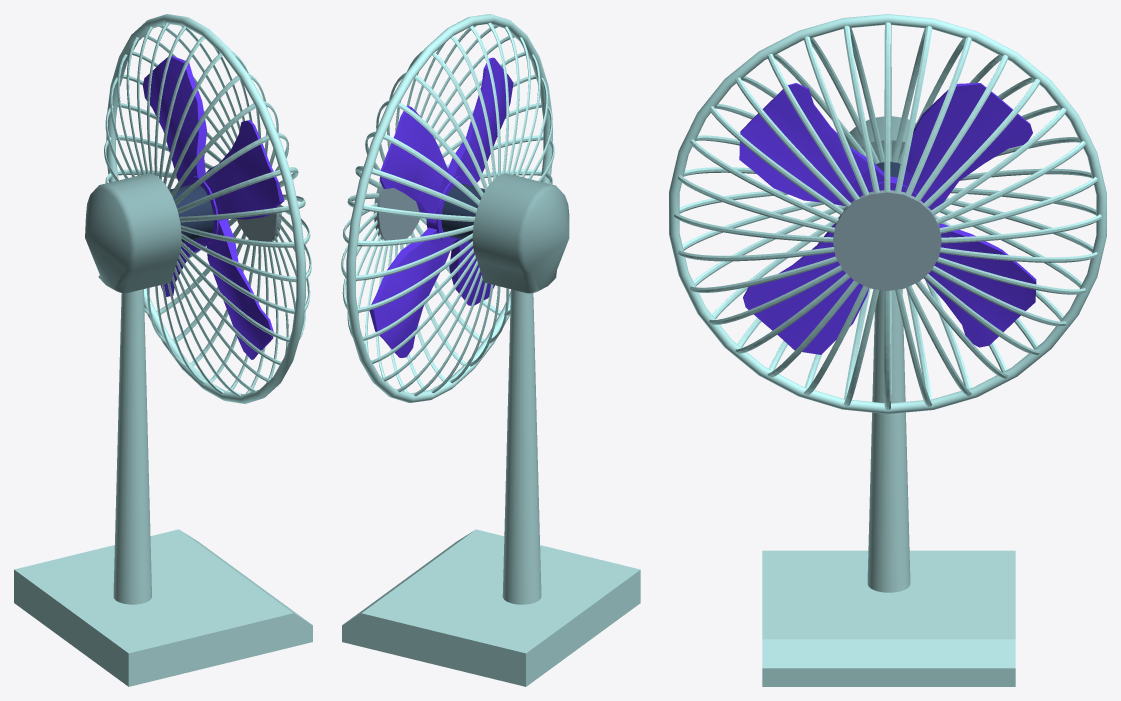
Rendered from kadai1.obj.
The picture shows the model from 3 angles, left to right: view 1: azimuth 30°, elevation 25°; view 2: azimuth 150°, elevation 25°; view 3: azimuth 270°, elevation 25°; orthographic projection. The views are drawn at different scales.
Visible parts, largest first — view 1: pCube25, pCube5 all_kaiten_, all_kaiten_ pCylinder6, all_kaiten_ pCylinder5, all_kaiten_ pTorus1, all_kaiten_ pCube21, all_kaiten_ pCube22, all_kaiten_ pCube20, all_kaiten_ pCube23, all_kaiten_ pCube19, all_kaiten_ pCube9, all_kaiten_ pCube8 (+11 smaller); view 2: pCube25, pCube5 all_kaiten_, all_kaiten_ pCylinder6, all_kaiten_ pCylinder5, all_kaiten_ pTorus1, all_kaiten_ pCylinder2, all_kaiten_ pCube12, all_kaiten_ pCube11, all_kaiten_ pCube13, all_kaiten_ pCube10, all_kaiten_ pCube14, all_kaiten_ pCube15 (+11 smaller); view 3: pCube25, pCube5 all_kaiten_, all_kaiten_ pTorus1, all_kaiten_ pCylinder6, all_kaiten_ pCylinder2, all_kaiten_ pCube9, all_kaiten_ pCube17, all_kaiten_ pCube23, all_kaiten_ pCube10, all_kaiten_ pCube16, all_kaiten_ pCube18, all_kaiten_ pCube15 (+10 smaller).
Boxes of the visible parts, <box> form: pCube25: <box>14,529,312,686</box>; pCube5 all_kaiten_: <box>142,55,284,359</box>; all_kaiten_ pCylinder6: <box>113,289,151,604</box>; all_kaiten_ pCylinder5: <box>85,173,181,293</box>; all_kaiten_ pTorus1: <box>106,14,305,403</box>; all_kaiten_ pCube21: <box>137,25,278,393</box>; all_kaiten_ pCube22: <box>147,22,268,396</box>; all_kaiten_ pCube20: <box>126,35,289,382</box>; all_kaiten_ pCube23: <box>154,26,261,393</box>; all_kaiten_ pCube19: <box>117,51,295,364</box>; all_kaiten_ pCube9: <box>155,51,260,366</box>; all_kaiten_ pCube8: <box>159,36,256,383</box>; pCube25: <box>342,529,640,686</box>; pCube5 all_kaiten_: <box>369,57,513,357</box>; all_kaiten_ pCylinder6: <box>502,289,541,604</box>; all_kaiten_ pCylinder5: <box>472,173,569,293</box>; all_kaiten_ pTorus1: <box>346,14,552,402</box>; all_kaiten_ pCylinder2: <box>373,181,420,240</box>; all_kaiten_ pCube12: <box>365,35,530,381</box>; all_kaiten_ pCube11: <box>376,25,519,392</box>; all_kaiten_ pCube13: <box>357,51,540,363</box>; all_kaiten_ pCube10: <box>388,22,509,396</box>; all_kaiten_ pCube14: <box>347,74,548,340</box>; all_kaiten_ pCube15: <box>342,103,552,312</box>; pCube25: <box>762,550,1015,686</box>; pCube5 all_kaiten_: <box>739,83,1036,354</box>; all_kaiten_ pTorus1: <box>669,14,1106,413</box>; all_kaiten_ pCylinder6: <box>867,289,910,592</box>; all_kaiten_ pCylinder2: <box>833,190,941,290</box>; all_kaiten_ pCube9: <box>843,25,932,406</box>; all_kaiten_ pCube17: <box>678,168,1097,261</box>; all_kaiten_ pCube23: <box>843,26,932,406</box>; all_kaiten_ pCube10: <box>804,36,971,396</box>; all_kaiten_ pCube16: <box>674,187,1101,243</box>; all_kaiten_ pCube18: <box>690,137,1085,292</box>; all_kaiten_ pCube15: <box>678,167,1097,262</box>.
Bounding box in the file's own units: 7.76 × 23.29 × 14.32.
